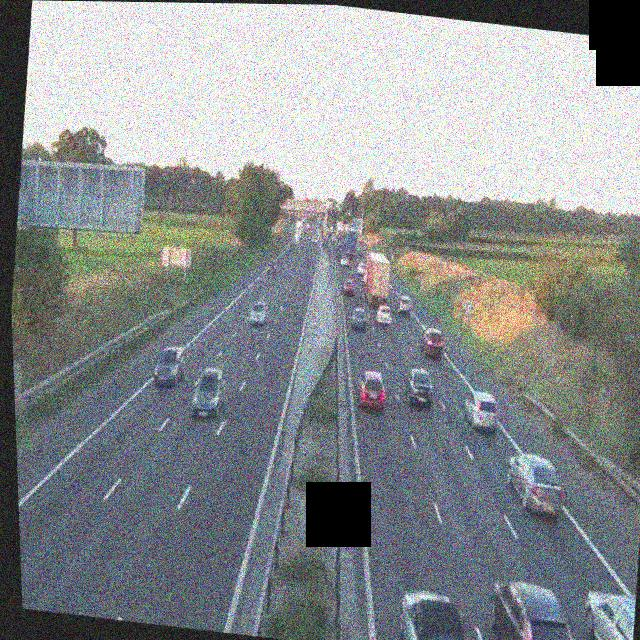car: (482, 577, 584, 640), (394, 587, 482, 640), (503, 452, 568, 519), (577, 589, 638, 640), (190, 365, 229, 421), (462, 389, 501, 432), (152, 345, 188, 388), (355, 368, 388, 411), (402, 368, 436, 409), (419, 328, 446, 360), (248, 298, 268, 326), (350, 307, 367, 330), (376, 304, 392, 327), (395, 294, 412, 314), (342, 277, 356, 296), (266, 257, 278, 274), (340, 254, 350, 267), (310, 234, 318, 245)
truck: (361, 250, 393, 311), (342, 228, 359, 258), (294, 221, 305, 244)
